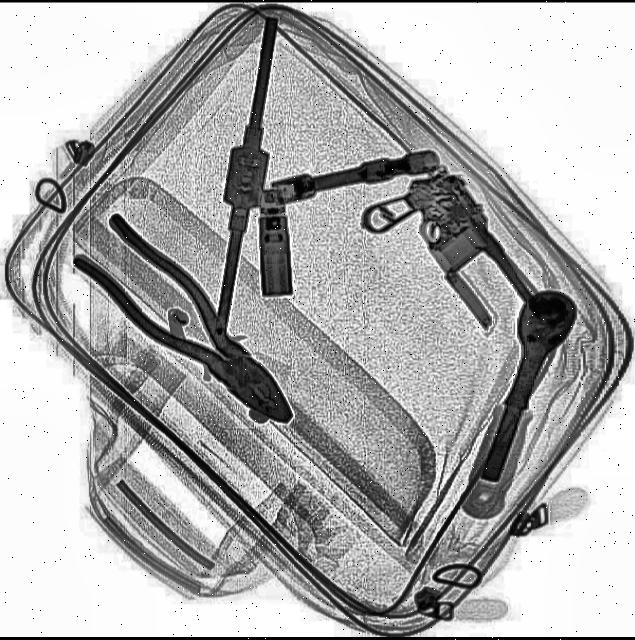Gun: (357, 145, 558, 380)
Pliers: (71, 208, 312, 451)
